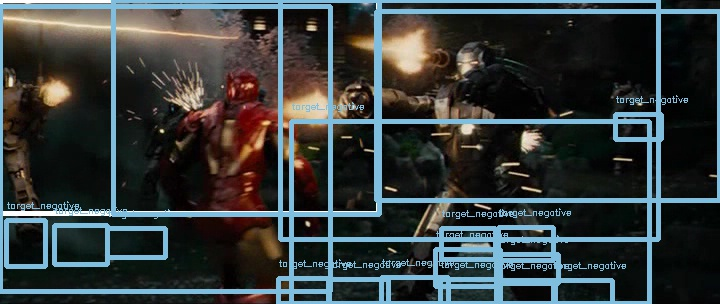person: (219, 69, 261, 107), (218, 69, 260, 107), (220, 69, 262, 107), (219, 68, 261, 106), (219, 70, 261, 108)
target_negative: (211, 39, 426, 203), (243, 227, 642, 279), (612, 61, 656, 163), (610, 168, 703, 174), (652, 248, 708, 257)
